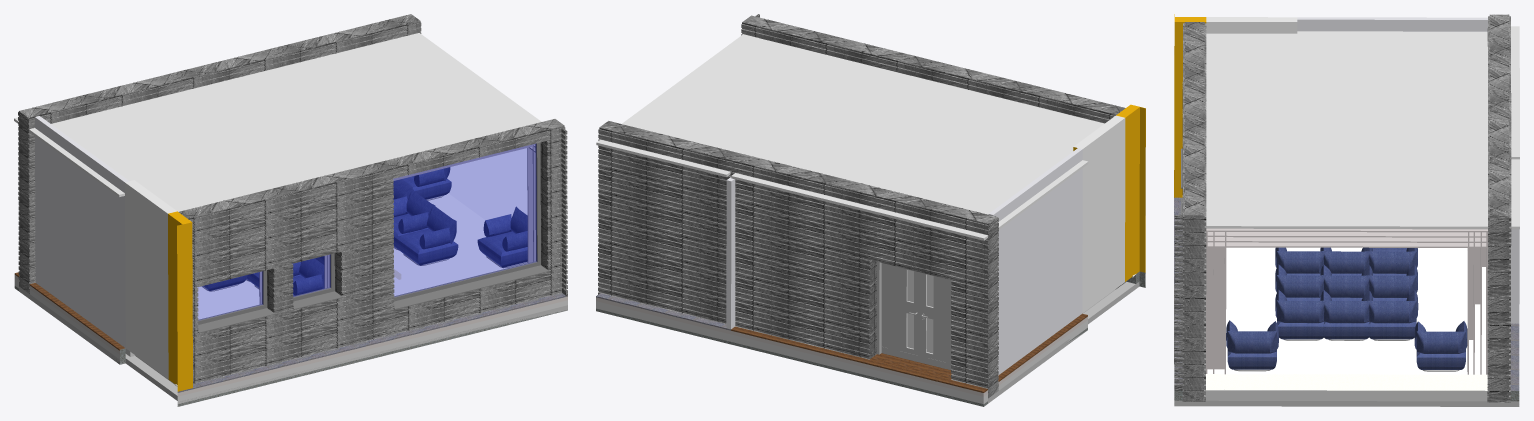
Rendered from Theater.fbx.
The picture shows the model from 3 angles, left to right: view 1: azimuth 30°, elevation 25°; view 2: azimuth 150°, elevation 25°; view 3: azimuth 270°, elevation 25°; orthographic projection. The views are drawn at different scales.
Parts seen in each view (by area): view 1: Mesh_18, Mesh_19, Mesh_9, Mesh_23, Mesh_7, Mesh_17, Mesh_2, Mesh_13, Mesh_14, Mesh_10, Mesh_3, Mesh_11 (+4 smaller); view 2: Mesh_18, Mesh_19, Mesh_23, Mesh_17, Mesh_22, Mesh_10, Mesh_14, Mesh_21, Mesh_4, Mesh_0, Mesh_3, Mesh_8 (+2 smaller); view 3: Mesh_19, Mesh_18, Mesh_2, Mesh_7, Mesh_16, Mesh_23, Mesh_10, Mesh_3, Mesh_14, Mesh_17, Mesh_11, Mesh_20.
Boxes of the visible parts, x1=… form: Mesh_18: x1=18, y1=14, x2=567, y2=383; Mesh_19: x1=14, y1=33, x2=541, y2=386; Mesh_9: x1=197, y1=144, x2=536, y2=320; Mesh_23: x1=35, y1=116, x2=129, y2=347; Mesh_7: x1=203, y1=167, x2=527, y2=295; Mesh_17: x1=125, y1=180, x2=176, y2=379; Mesh_2: x1=197, y1=193, x2=526, y2=319; Mesh_13: x1=197, y1=142, x2=548, y2=333; Mesh_14: x1=168, y1=211, x2=192, y2=391; Mesh_10: x1=14, y1=278, x2=567, y2=403; Mesh_3: x1=19, y1=286, x2=567, y2=406; Mesh_11: x1=177, y1=293, x2=567, y2=392; Mesh_18: x1=598, y1=14, x2=1126, y2=398; Mesh_19: x1=596, y1=34, x2=1135, y2=354; Mesh_23: x1=726, y1=148, x2=1082, y2=375; Mesh_17: x1=1073, y1=115, x2=1125, y2=313; Mesh_22: x1=877, y1=261, x2=951, y2=369; Mesh_10: x1=596, y1=278, x2=1145, y2=404; Mesh_14: x1=1073, y1=104, x2=1145, y2=281; Mesh_21: x1=731, y1=313, x2=1087, y2=392; Mesh_4: x1=596, y1=274, x2=1145, y2=396; Mesh_0: x1=596, y1=271, x2=1145, y2=406; Mesh_3: x1=981, y1=281, x2=1145, y2=406; Mesh_8: x1=907, y1=270, x2=933, y2=353; Mesh_19: x1=1206, y1=26, x2=1519, y2=229; Mesh_18: x1=1174, y1=14, x2=1511, y2=402; Mesh_2: x1=1206, y1=247, x2=1487, y2=390; Mesh_7: x1=1226, y1=247, x2=1467, y2=369; Mesh_16: x1=1206, y1=228, x2=1487, y2=389; Mesh_23: x1=1297, y1=17, x2=1519, y2=323; Mesh_10: x1=1174, y1=306, x2=1487, y2=401; Mesh_3: x1=1174, y1=334, x2=1519, y2=406; Mesh_14: x1=1174, y1=14, x2=1206, y2=197; Mesh_17: x1=1206, y1=17, x2=1297, y2=33; Mesh_11: x1=1174, y1=197, x2=1519, y2=390; Mesh_20: x1=1234, y1=339, x2=1459, y2=371.
Bounding box in the file's own units: 2710 × 1205 × 1950.
